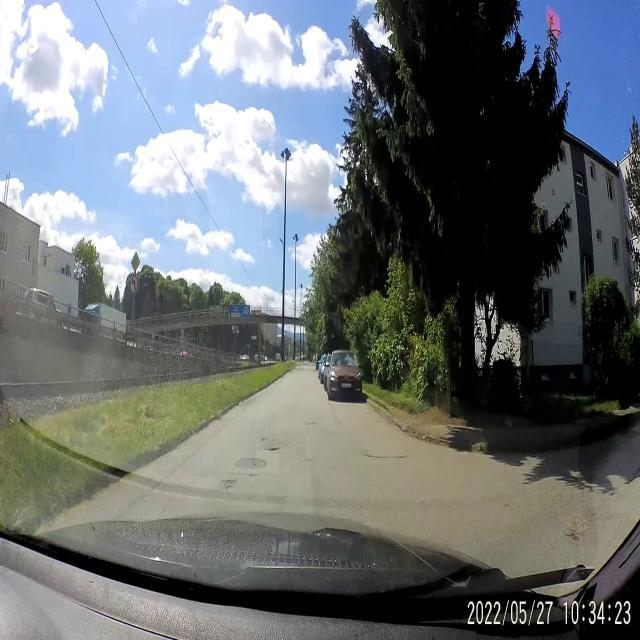Manhole: (234, 452, 269, 474)
Pothole: (361, 449, 408, 465), (262, 434, 282, 456), (215, 476, 238, 494), (301, 418, 321, 429)
